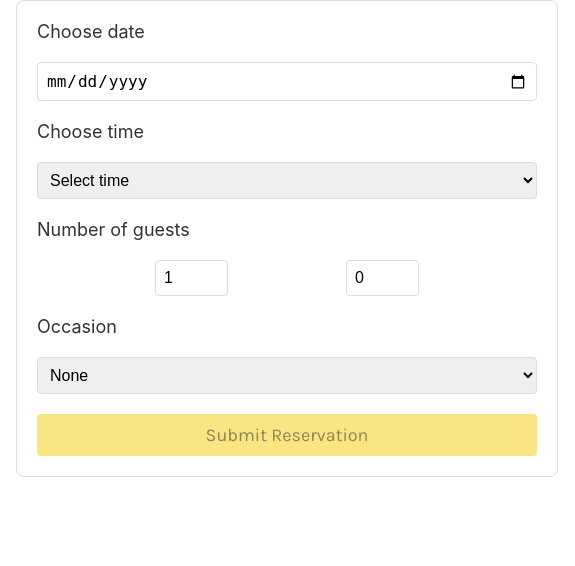
Test: BookingForm Component › validates the time field correctly
The width and height of the screenshot is (575, 566).
Select "Select time" in the dropdown labelled "Choose time" at (287, 180), box [37,162,537,199]
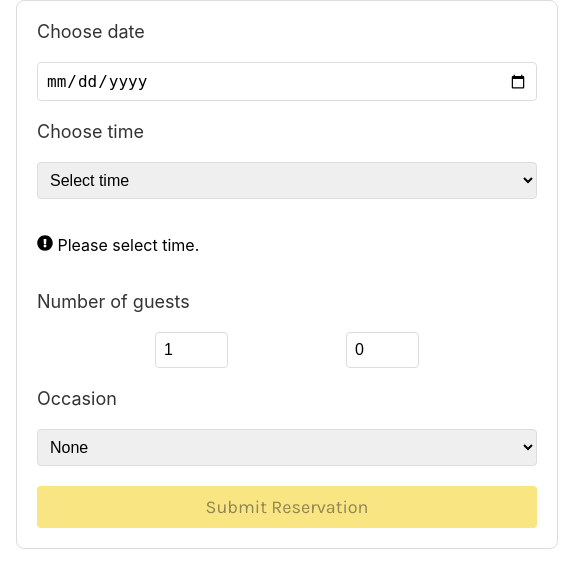
Expected: the text "Please select time." is shown, [37,235,199,255]
